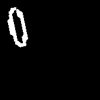chain: (8, 8, 27, 46)
